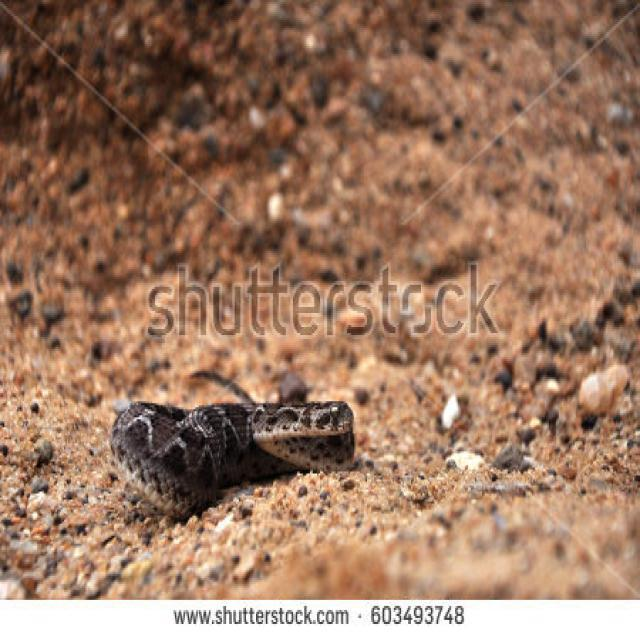Snake: (108, 395, 356, 520)
